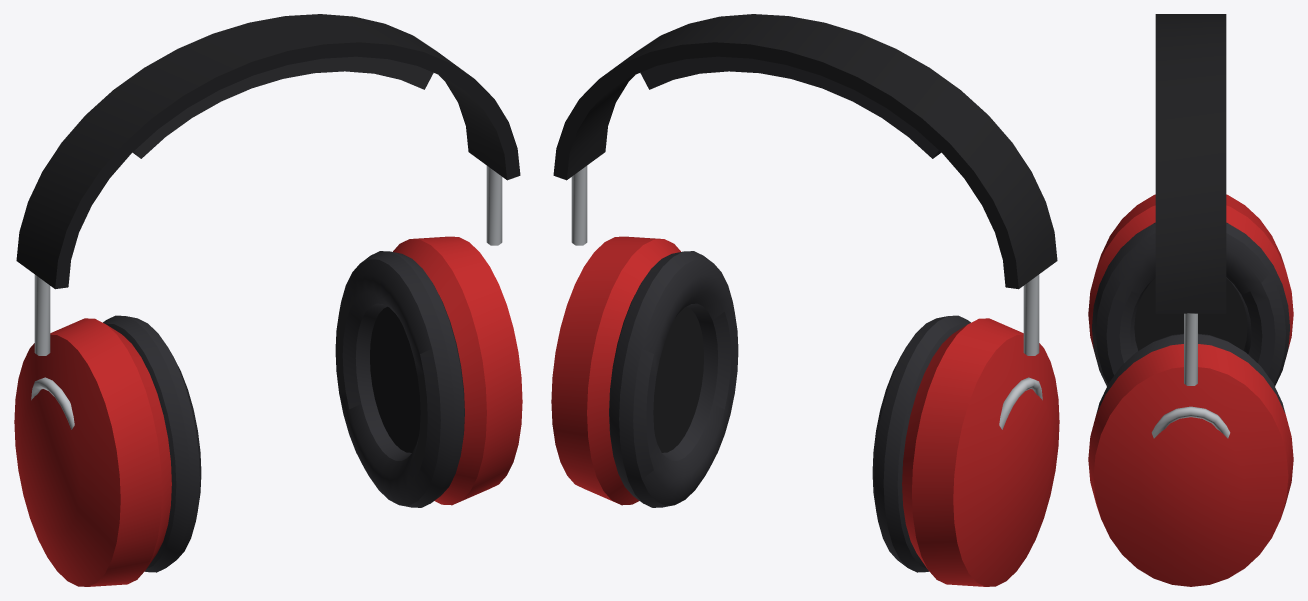
Rendered from safety-ear-defenders.glb.
3 renders of one model, left to right at view 1: azimuth 30°, elevation 25°; view 2: azimuth 150°, elevation 25°; view 3: azimuth 270°, elevation 25°, orthographic. The views are drawn at different scales.
Visible parts, largest first — view 1: Safety_Ear_Defenders; view 2: Safety_Ear_Defenders; view 3: Safety_Ear_Defenders.
Part boxes in pixels (x1=…): Safety_Ear_Defenders: x1=14, y1=14, x2=522, y2=586; Safety_Ear_Defenders: x1=551, y1=14, x2=1059, y2=586; Safety_Ear_Defenders: x1=1088, y1=14, x2=1293, y2=586.
Size of the model in its own units: 0.278 by 0.2865 by 0.116.
